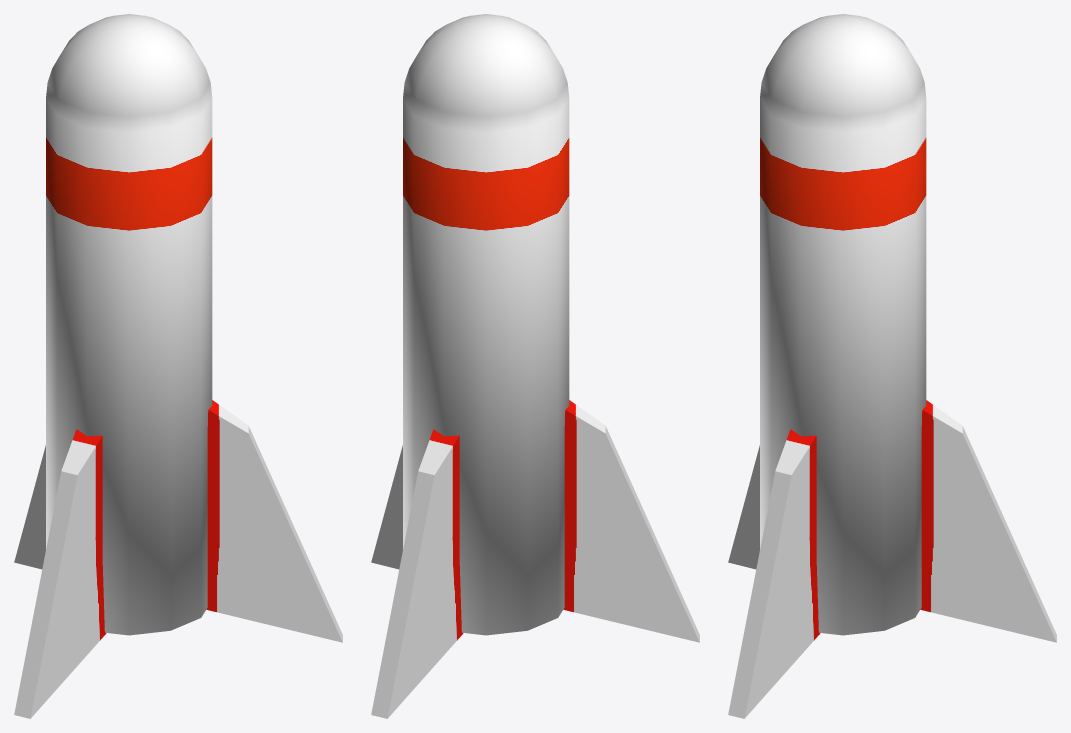
The model's file is rocket.fbx.
3 views of the same model, side by side, from view 1: azimuth 30°, elevation 25°; view 2: azimuth 150°, elevation 25°; view 3: azimuth 270°, elevation 25° (orthographic).
Visible parts, largest first — view 1: Cylinder, Cube; view 2: Cylinder, Cube; view 3: Cylinder, Cube.
Boxes of the visible parts, x1,y1,x2,y2 form: Cylinder: (46,14,212,635); Cube: (14,400,342,718); Cylinder: (403,14,569,635); Cube: (371,400,699,718); Cylinder: (760,14,926,635); Cube: (728,400,1056,718).
Size of the model in its own units: 137 by 246 by 119.
